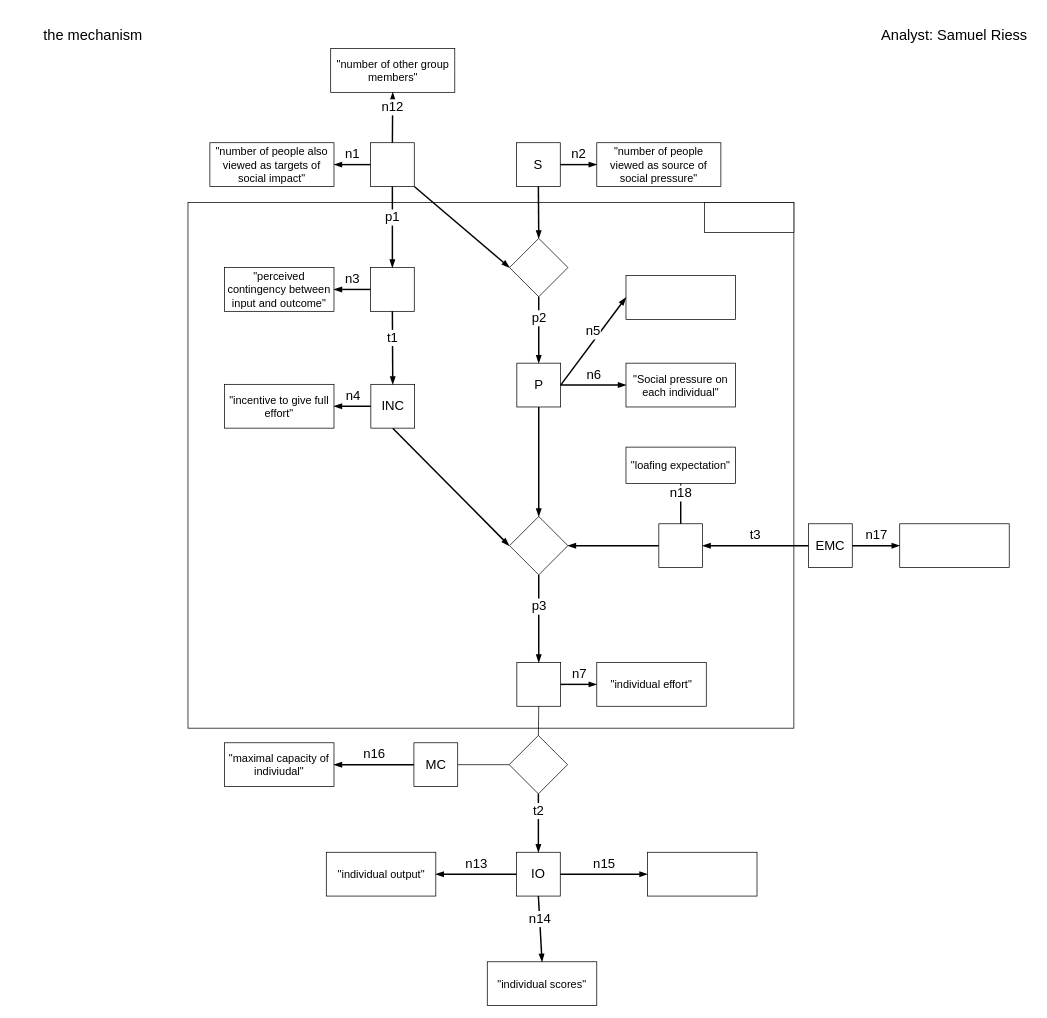
Image size: 1047x1018. Some labels were removed from this diagram. Each missing label, with the box of its shape:
"Effort Matching condition": (899, 523, 1009, 568)
"individual performance": (647, 852, 757, 896)
"Social impact on each individual": (625, 275, 735, 319)
CON: (370, 267, 414, 311)
CT: (370, 142, 414, 187)
IE: (516, 662, 561, 706)
LE: (658, 523, 703, 568)
Psyche: (704, 202, 794, 233)
